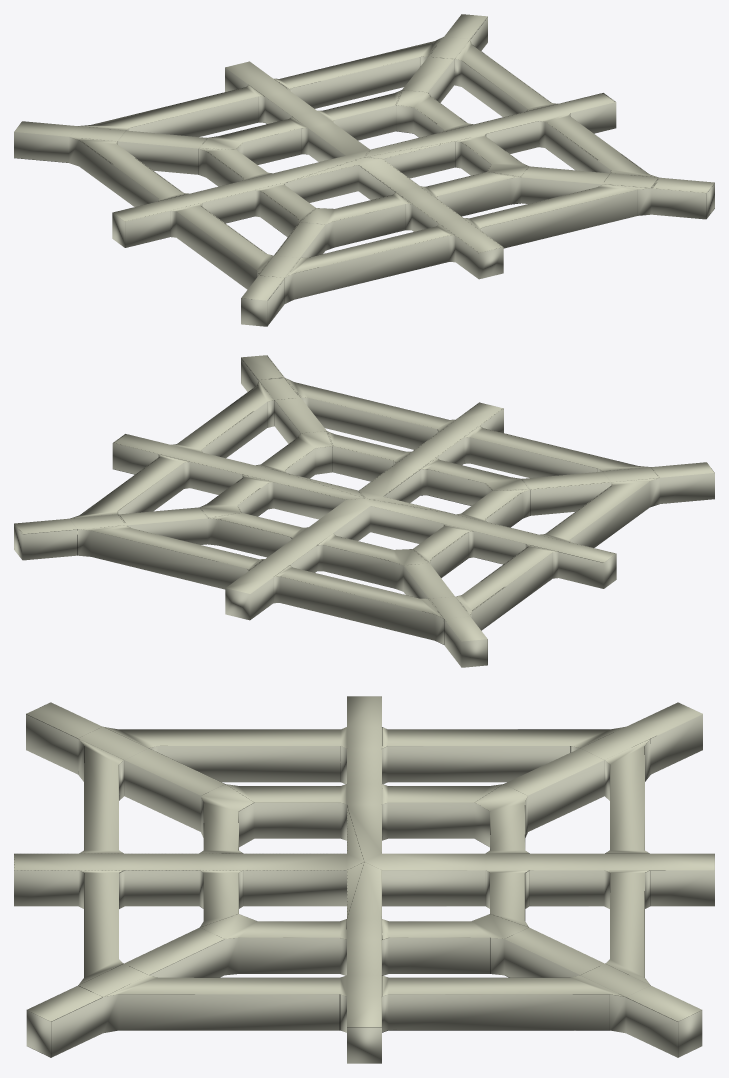
The model's file is E_SP_Kumonosu.fbx.
The picture shows the model from 3 angles, top to bottom: view 1: azimuth 30°, elevation 25°; view 2: azimuth 150°, elevation 25°; view 3: azimuth 270°, elevation 25°; orthographic projection. The views are drawn at different scales.
Visible parts, largest first — view 1: model; view 2: model; view 3: model.
Part boxes in pixels (x1,y1,x2,y2): model: (14,14,714,326); model: (14,355,714,667); model: (14,696,714,1063).
Bounding box in the file's own units: 2.4 × 0.1226 × 2.15.
Materials: 1 (1 with a texture image).
